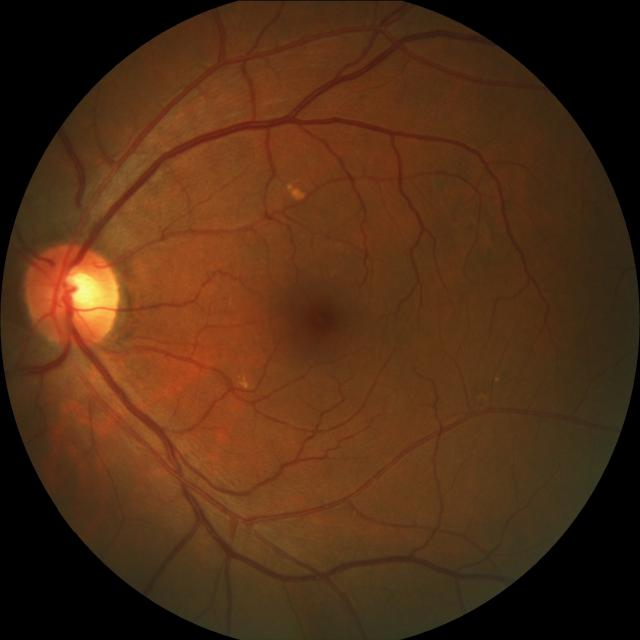OC: (56, 266, 104, 314)
OD: (24, 240, 123, 348)
